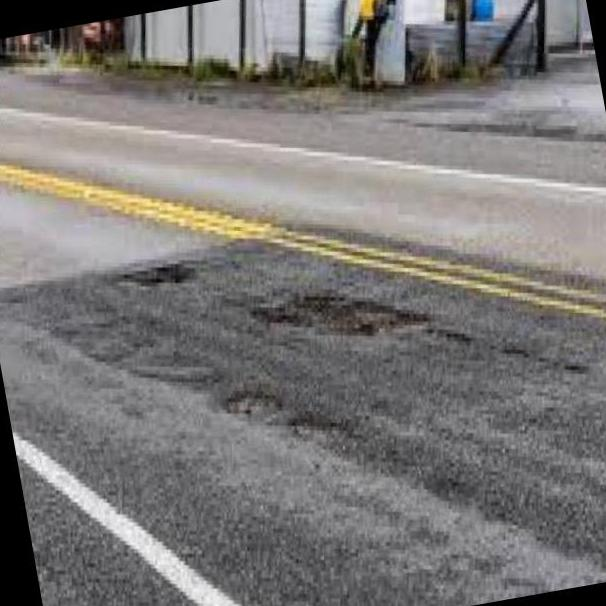pothole: (243, 255, 450, 369), (288, 402, 370, 466), (120, 252, 208, 300), (219, 375, 288, 432)
